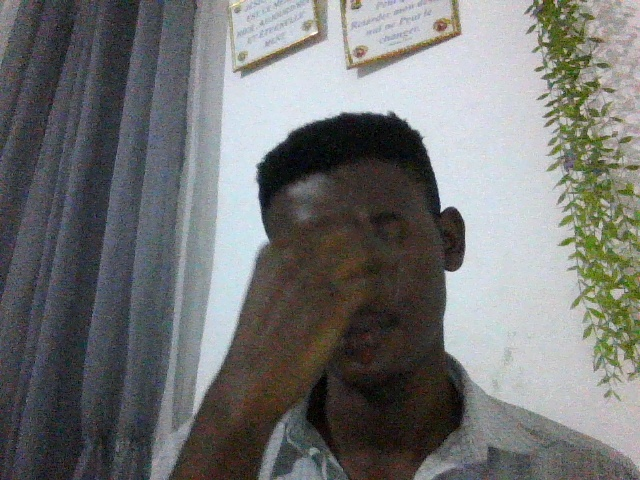hand: (194, 210, 378, 425)
